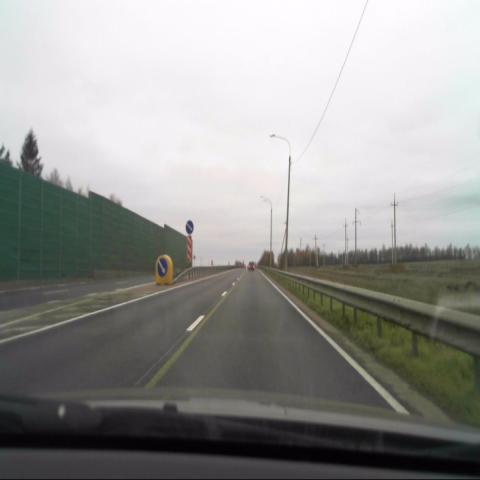4_2_1: (157, 256, 168, 276), (185, 219, 194, 234)
